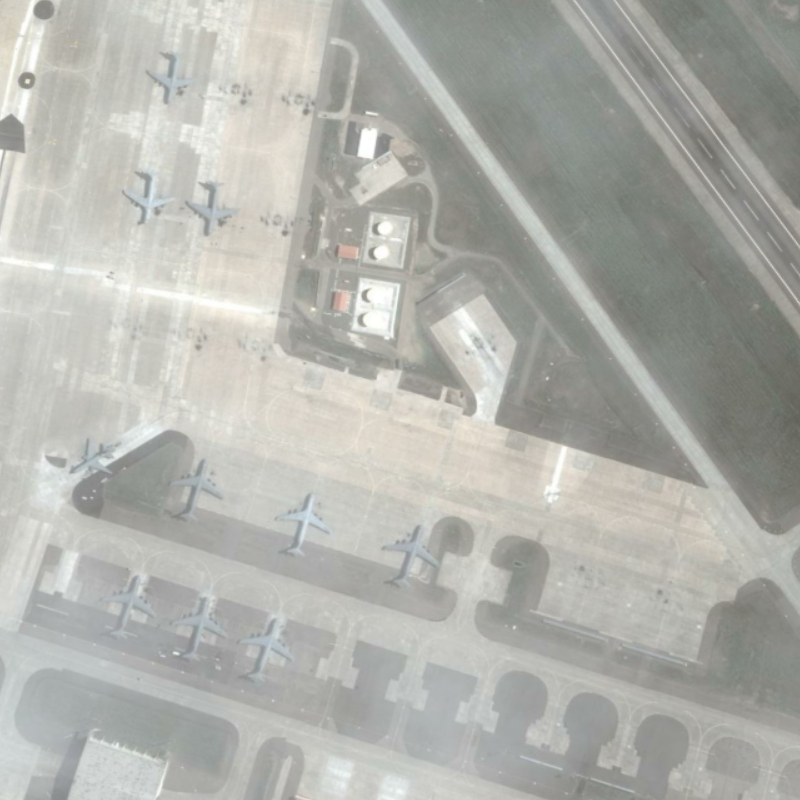A18: (67, 435, 120, 479)
A4: (379, 520, 441, 593), (168, 594, 230, 665), (99, 571, 159, 644), (273, 490, 334, 561), (167, 456, 227, 527), (236, 615, 295, 685), (122, 165, 180, 226), (184, 178, 242, 239), (143, 48, 201, 106)
